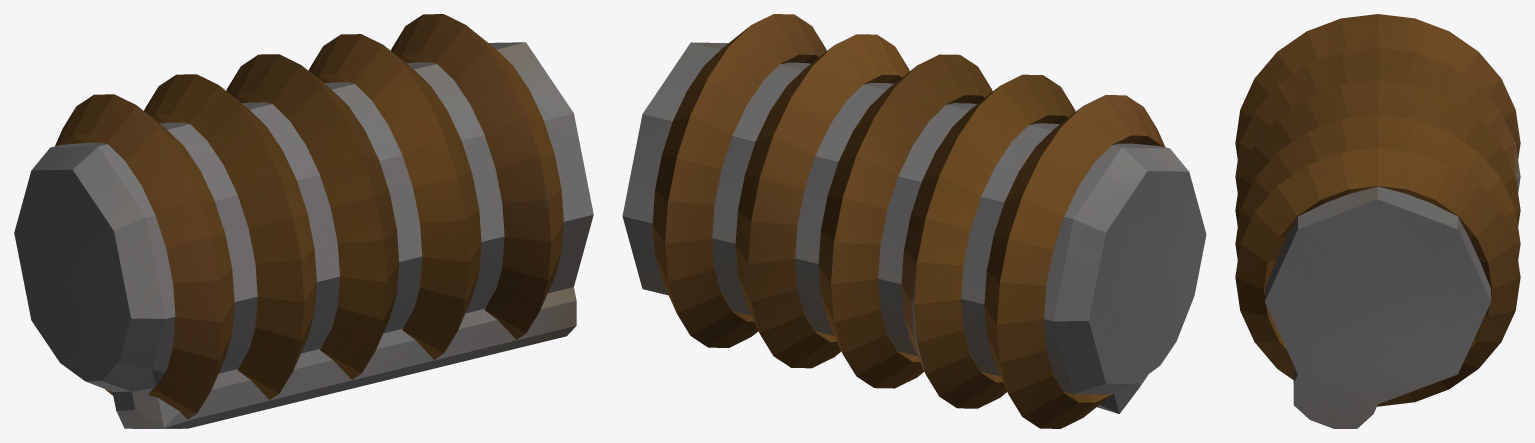
3 views of the same model, side by side, from view 1: azimuth 30°, elevation 25°; view 2: azimuth 150°, elevation 25°; view 3: azimuth 270°, elevation 25° (orthographic). The views are drawn at different scales.
Parts seen in each view (by area): view 1: Motherboard component 6; view 2: Motherboard component 6; view 3: Motherboard component 6.
Part boxes in pixels (left/top/right/bottom): Motherboard component 6: left=14, top=14, right=593, bottom=428; Motherboard component 6: left=622, top=14, right=1206, bottom=428; Motherboard component 6: left=1235, top=14, right=1520, bottom=428.
Bounding box in the file's own units: 15.12 × 9.87 × 9.87.
